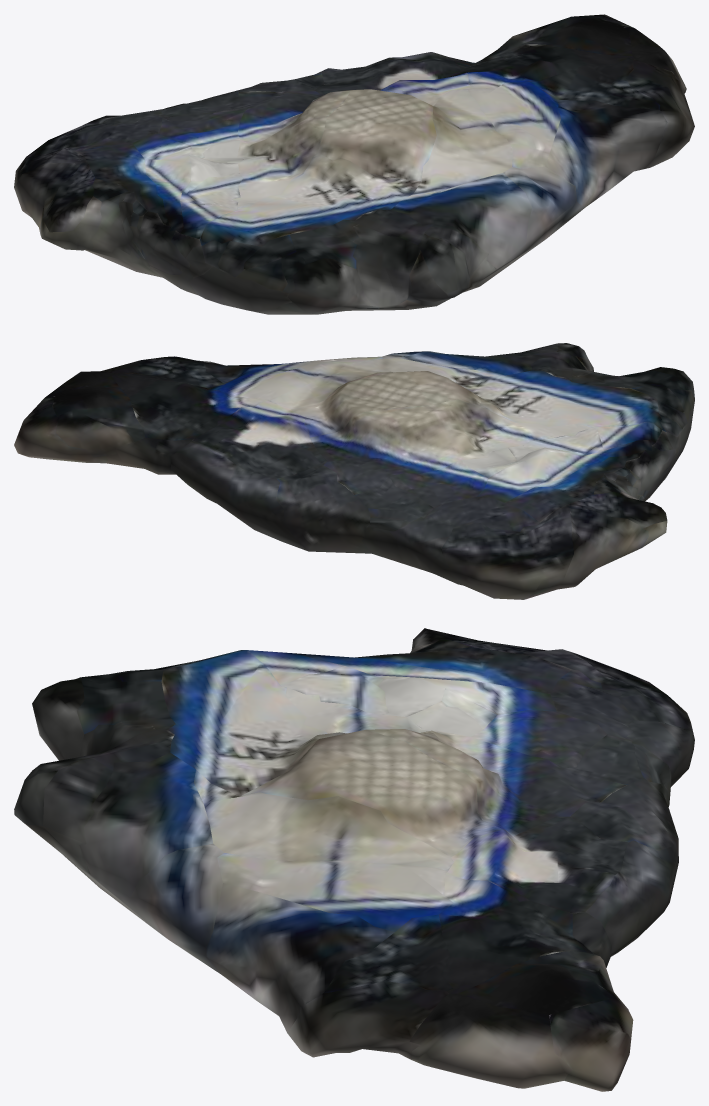
Rendered from hall.glb.
3 views of the same model, one above another, from view 1: azimuth 30°, elevation 25°; view 2: azimuth 150°, elevation 25°; view 3: azimuth 270°, elevation 25° (orthographic). The views are drawn at different scales.
Size of the model in its own units: 0.6652 by 0.1104 by 0.4571.
Materials: 1 (1 with a texture image).
